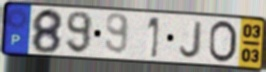1: (146, 16, 161, 59)
8: (30, 7, 65, 55)
9: (65, 10, 95, 56), (105, 11, 131, 59)
J: (178, 20, 205, 60)
O: (207, 19, 239, 64)
